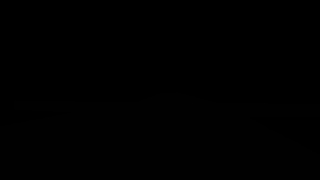go_ahead: (252, 21, 295, 54)
